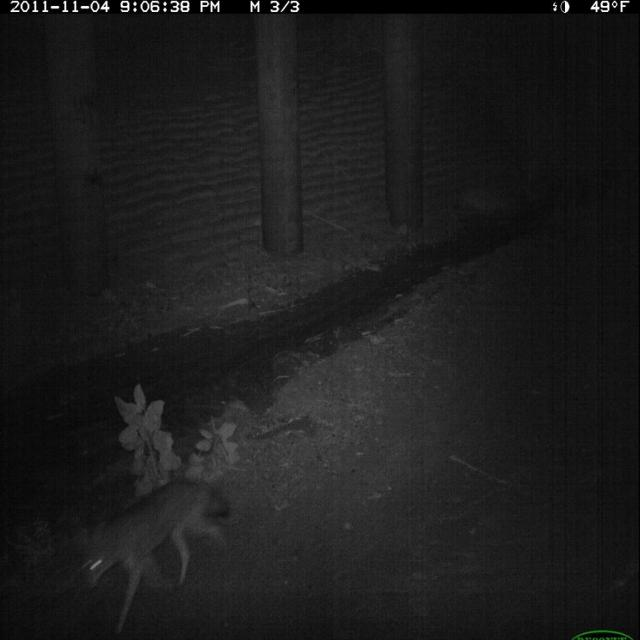coyote: (76, 474, 236, 637)
